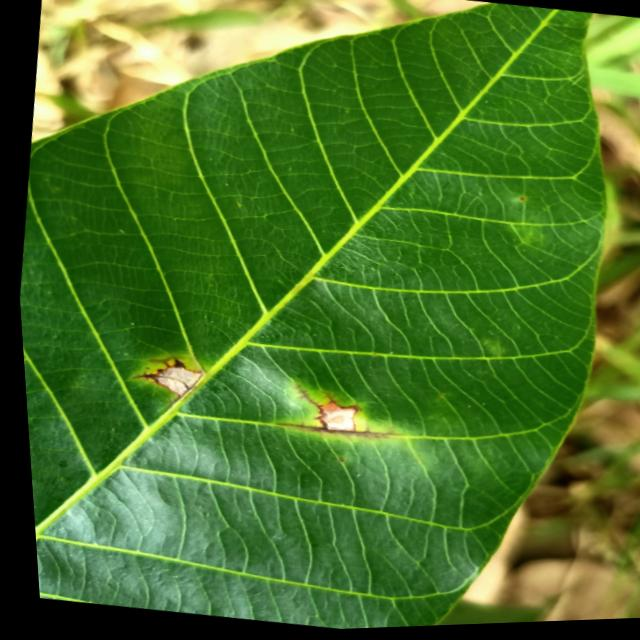Corynespora: (269, 417, 390, 448), (281, 384, 339, 419)
Leaf-Blight: (145, 365, 196, 399), (313, 404, 351, 436)
